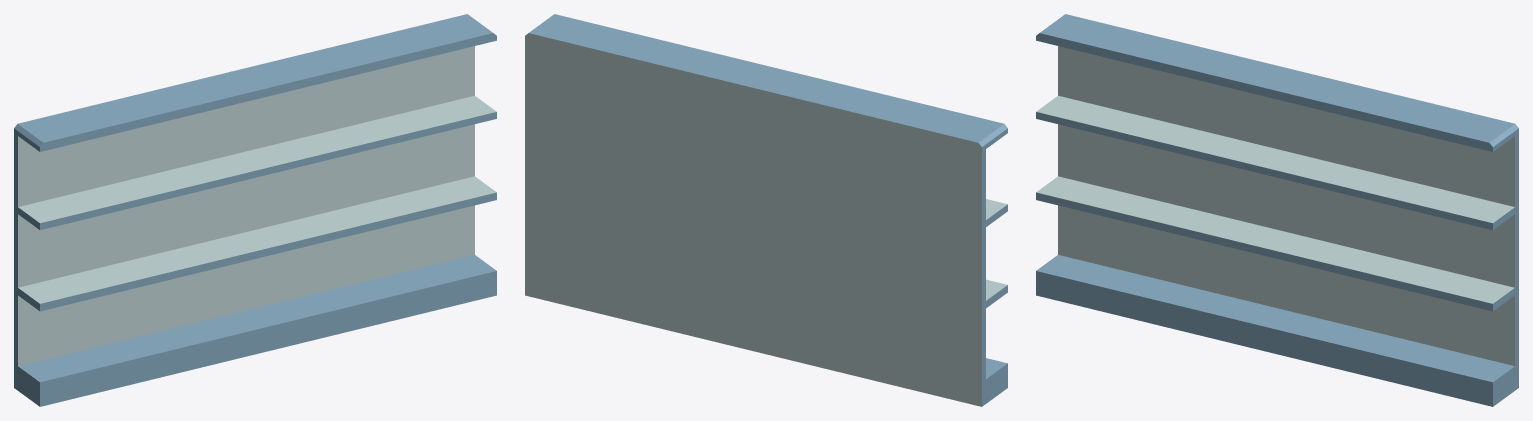
File: Estante Var.fbx
The picture shows the model from 3 angles, left to right: view 1: azimuth 30°, elevation 25°; view 2: azimuth 150°, elevation 25°; view 3: azimuth 330°, elevation 25°; orthographic projection.
Parts seen in each view (by area): view 1: Estante_var_1; view 2: Estante_var_1; view 3: Estante_var_1.
Boxes of the visible parts, box(x1,y1,x2,y2) form: Estante_var_1: box(14, 14, 496, 406); Estante_var_1: box(525, 14, 1007, 406); Estante_var_1: box(1036, 14, 1518, 406).
Size of the model in its own units: 7.23 by 3.98 by 0.7127.
